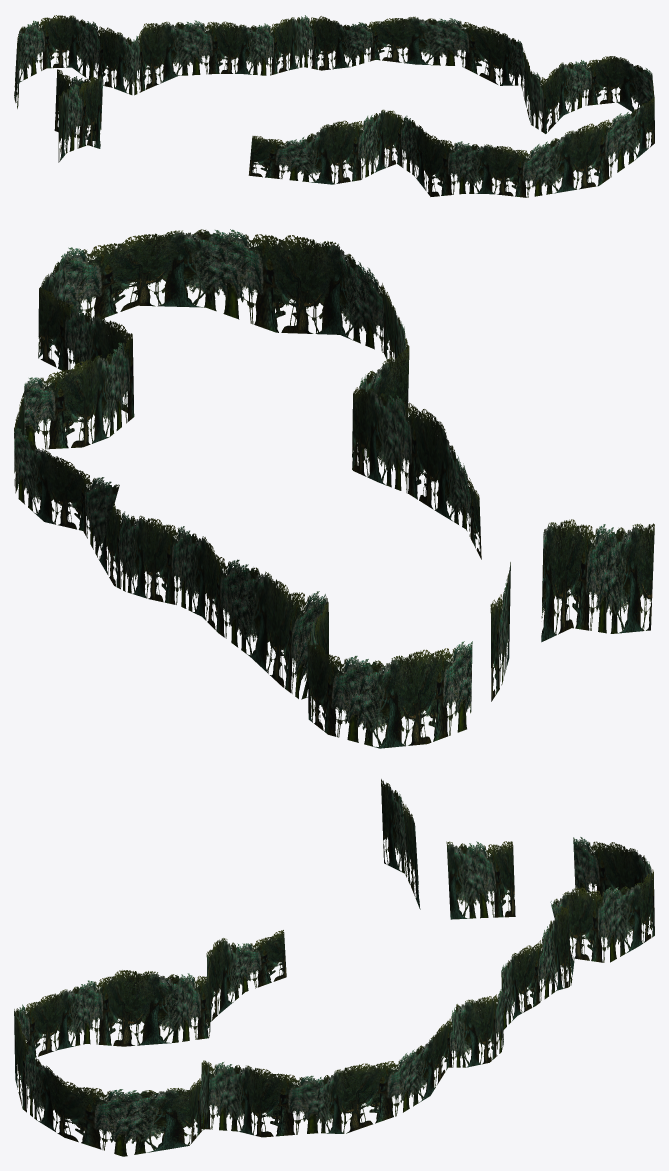
Rendered from MIRKWOOD_MIRK_PLAYSURFACE235.fbx.
3 views of the same model, one above another, from view 1: azimuth 30°, elevation 25°; view 2: azimuth 150°, elevation 25°; view 3: azimuth 270°, elevation 25° (orthographic). The views are drawn at different scales.
Visible parts, largest first — view 1: MIRKWOOD_MIRK_PLAYSURFACE235; view 2: MIRKWOOD_MIRK_PLAYSURFACE235; view 3: MIRKWOOD_MIRK_PLAYSURFACE235.
Part boxes in pixels (x1,y1,x2,y2): MIRKWOOD_MIRK_PLAYSURFACE235: [14, 15, 654, 197]; MIRKWOOD_MIRK_PLAYSURFACE235: [14, 229, 654, 748]; MIRKWOOD_MIRK_PLAYSURFACE235: [14, 779, 654, 1156].
Bounding box in the file's own units: 2806715 × 527841 × 2613535.
1 material, 1 textured.
